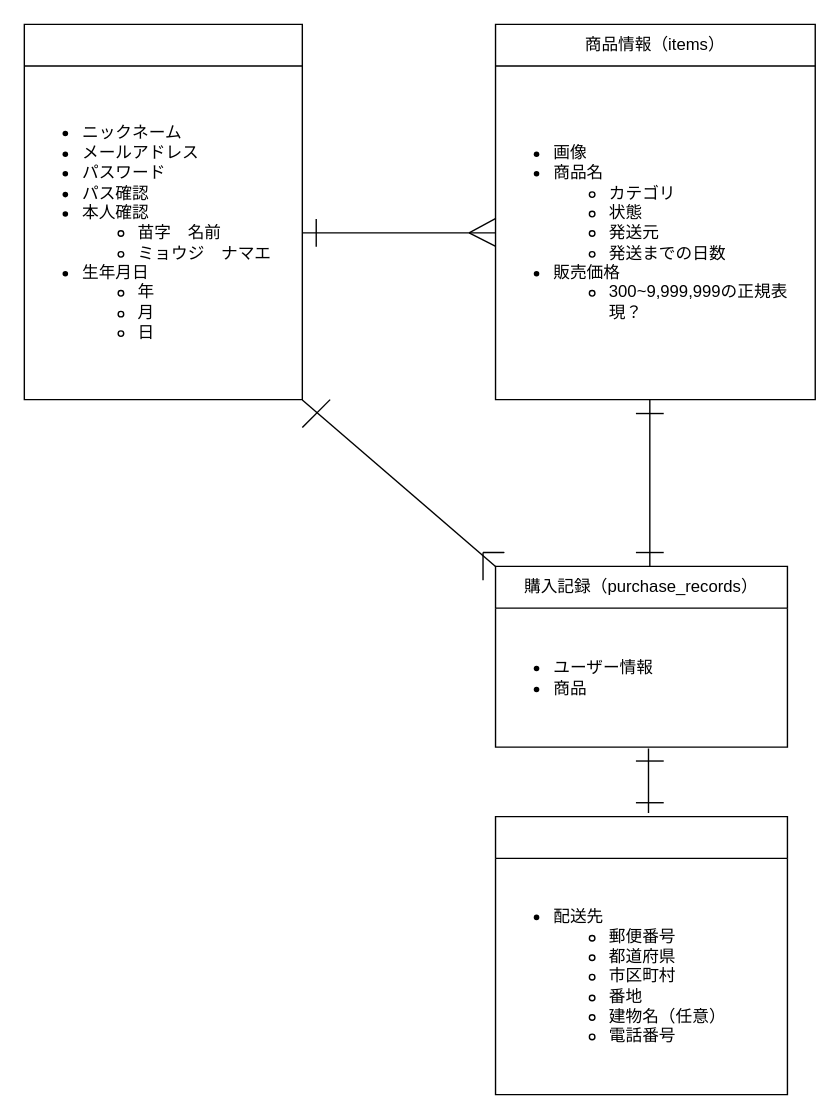
The diagram is 840 pixels wide and 1119 high, and some of its shapes have lost their labels. Each missing label, with the box of its shape:
ユーザー情報（users）: (23, 23, 302, 400)
宛先（addresses）: (494, 815, 787, 1095)
